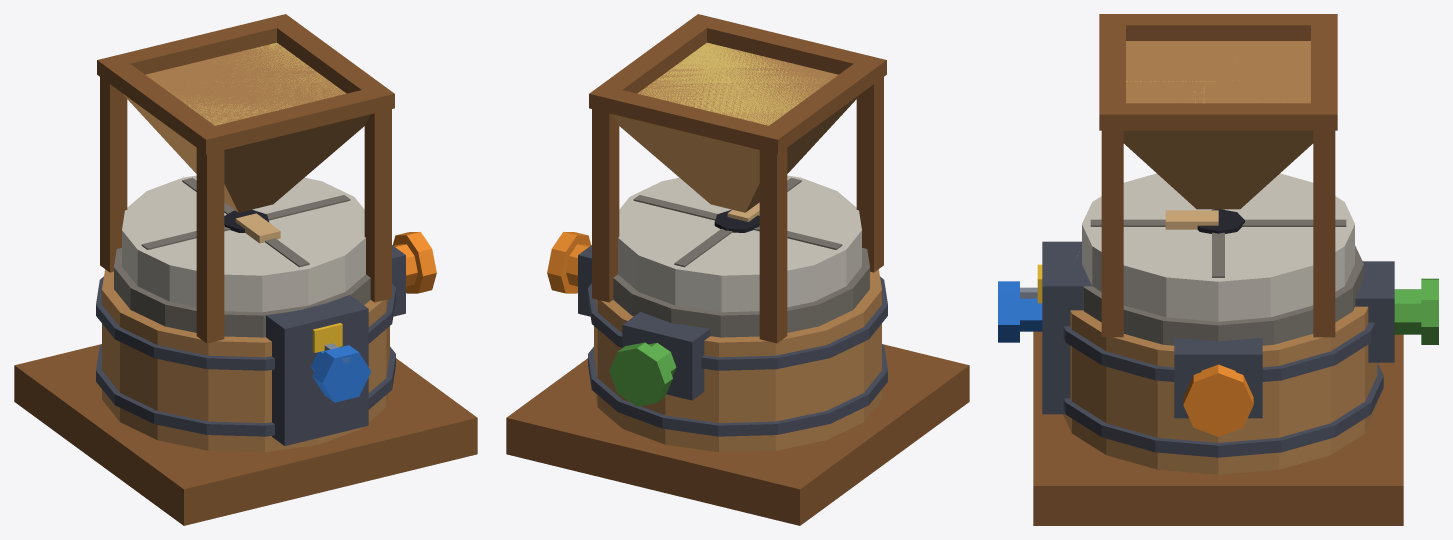
Rendered from millstone-right.glb.
3 renders of one model, left to right at view 1: azimuth 30°, elevation 25°; view 2: azimuth 150°, elevation 25°; view 3: azimuth 270°, elevation 25°, orthographic. The views are drawn at different scales.
Parts seen in each view (by area): view 1: millstone-right, spin-up, spin-y; view 2: millstone-right, spin-up; view 3: millstone-right, spin-up, spin-y.
Part boxes in pixels (x1=…): millstone-right: x1=14, y1=14, x2=477, y2=525; spin-up: x1=122, y1=175, x2=365, y2=312; spin-y: x1=311, y1=343, x2=371, y2=402; millstone-right: x1=506, y1=14, x2=969, y2=525; spin-up: x1=618, y1=175, x2=861, y2=312; millstone-right: x1=1033, y1=14, x2=1438, y2=525; spin-up: x1=1082, y1=173, x2=1354, y2=321; spin-y: x1=998, y1=281, x2=1042, y2=342.
Size of the model in its own units: 0.92 by 0.96 by 1.
3 materials, 3 textured.
